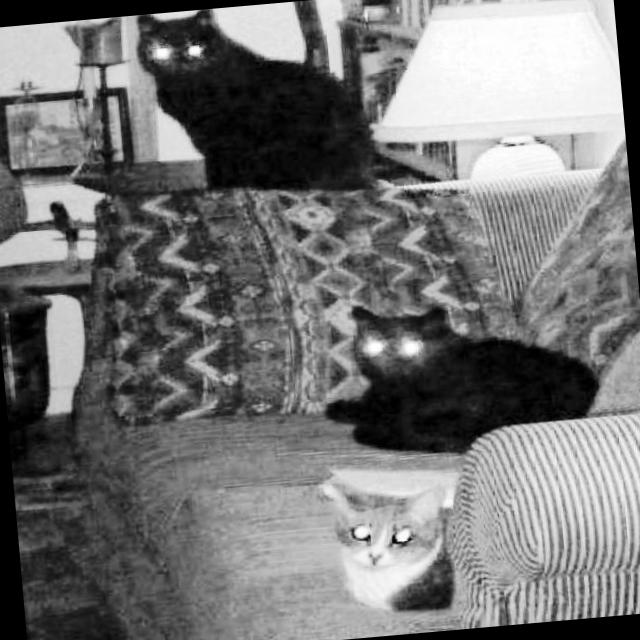Cat: (309, 276, 606, 469), (118, 0, 385, 211), (303, 468, 462, 626)
